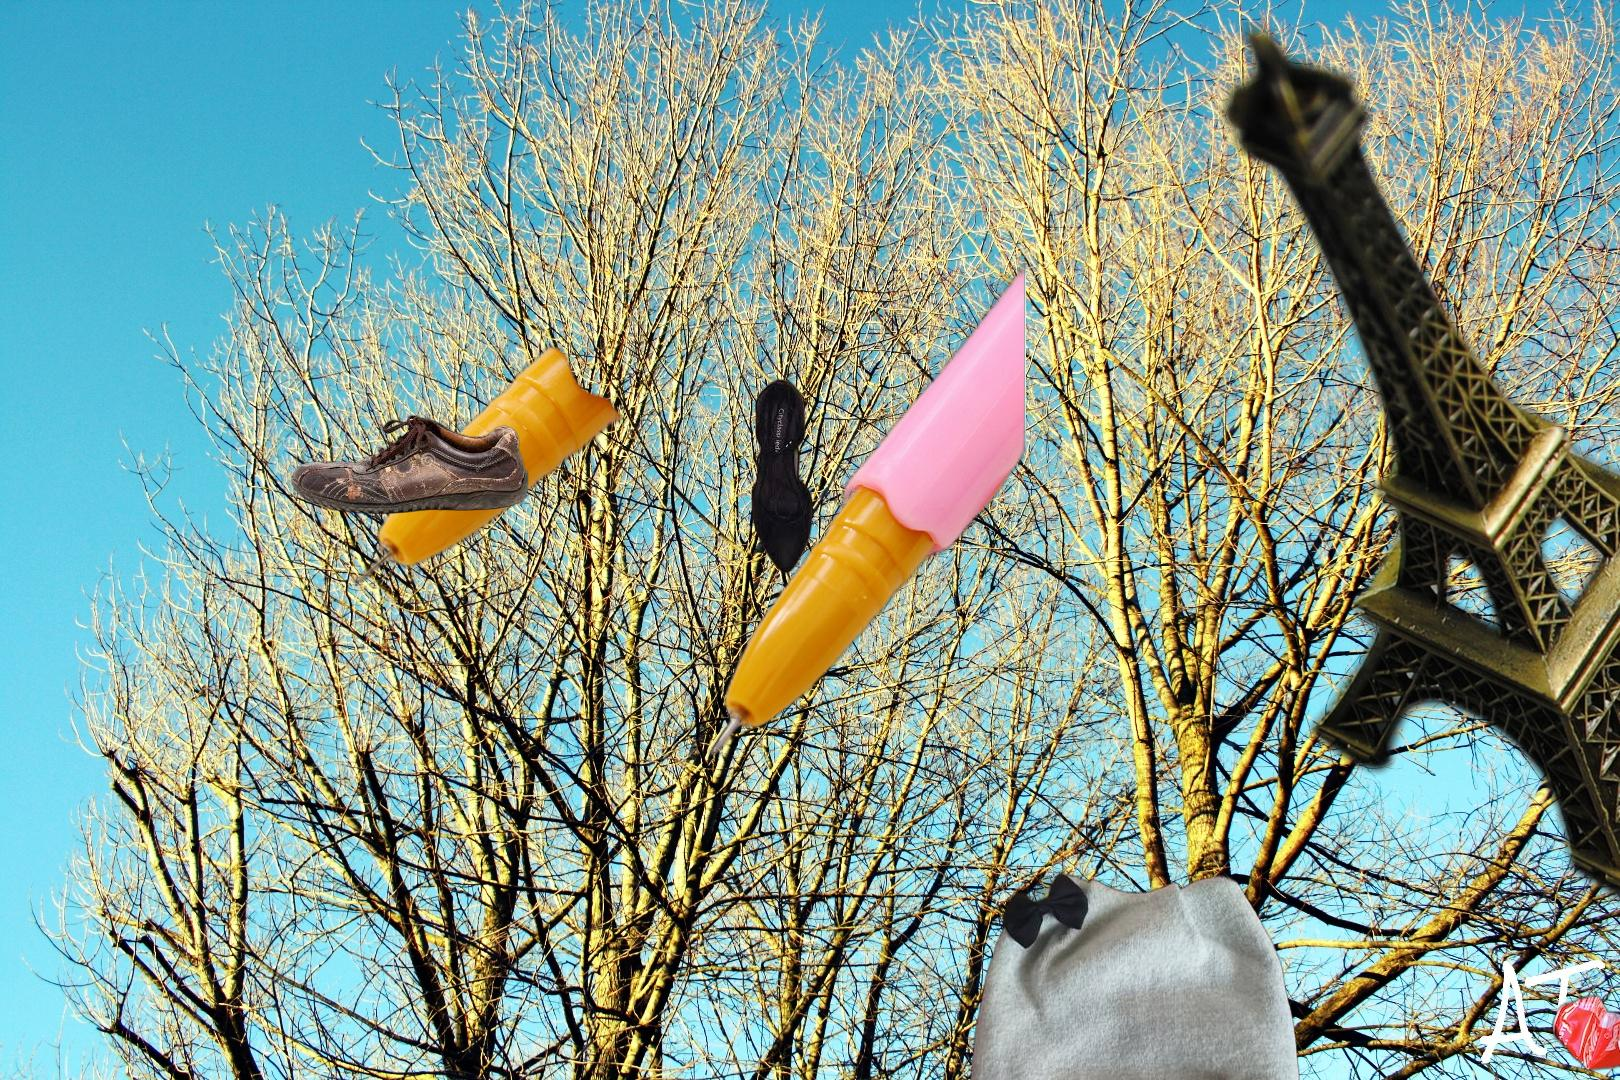clothes: (956, 858, 1309, 1080)
metal-cans: (1348, 990, 1620, 1080)
penholder: (1205, 22, 1620, 1080), (347, 152, 1026, 762)
shoes: (289, 412, 532, 517), (746, 375, 816, 576)
